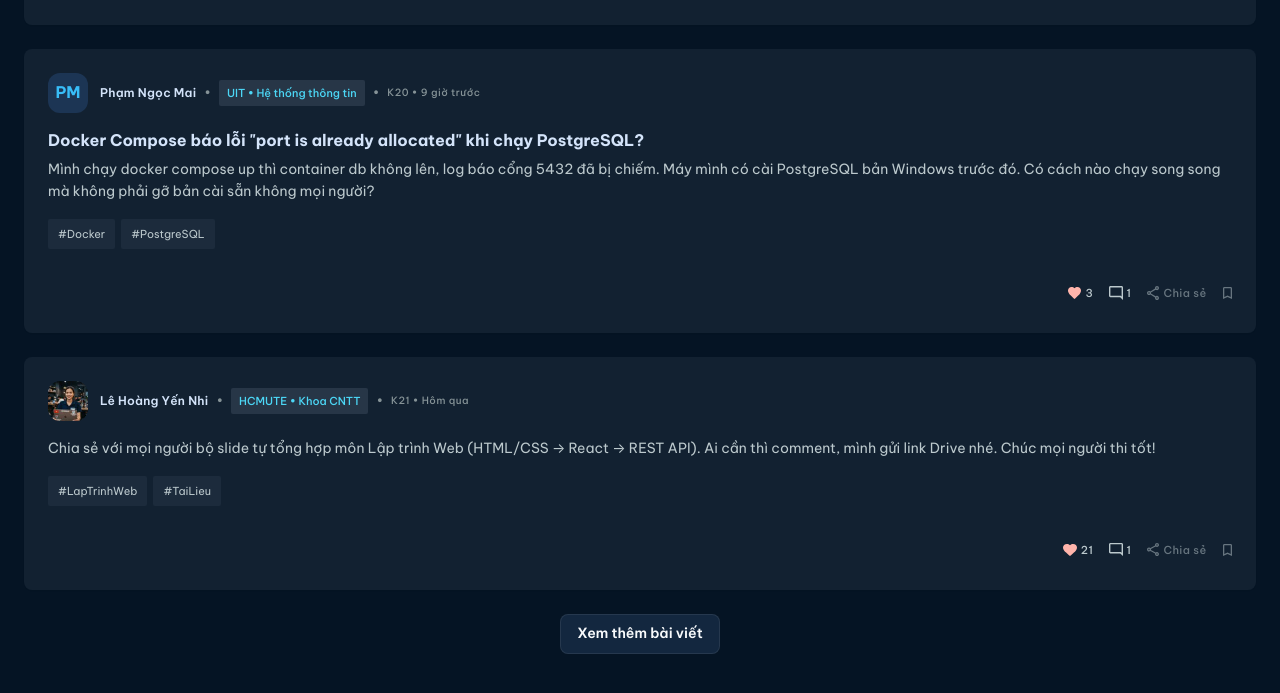
Test: FeedPage › bấm nút bình luận mở phần bình luận ngay trong thẻ bài
(page scrolled)
Click the button named "Bình luận (1)": click(1120, 293) [1109,277,1132,309]
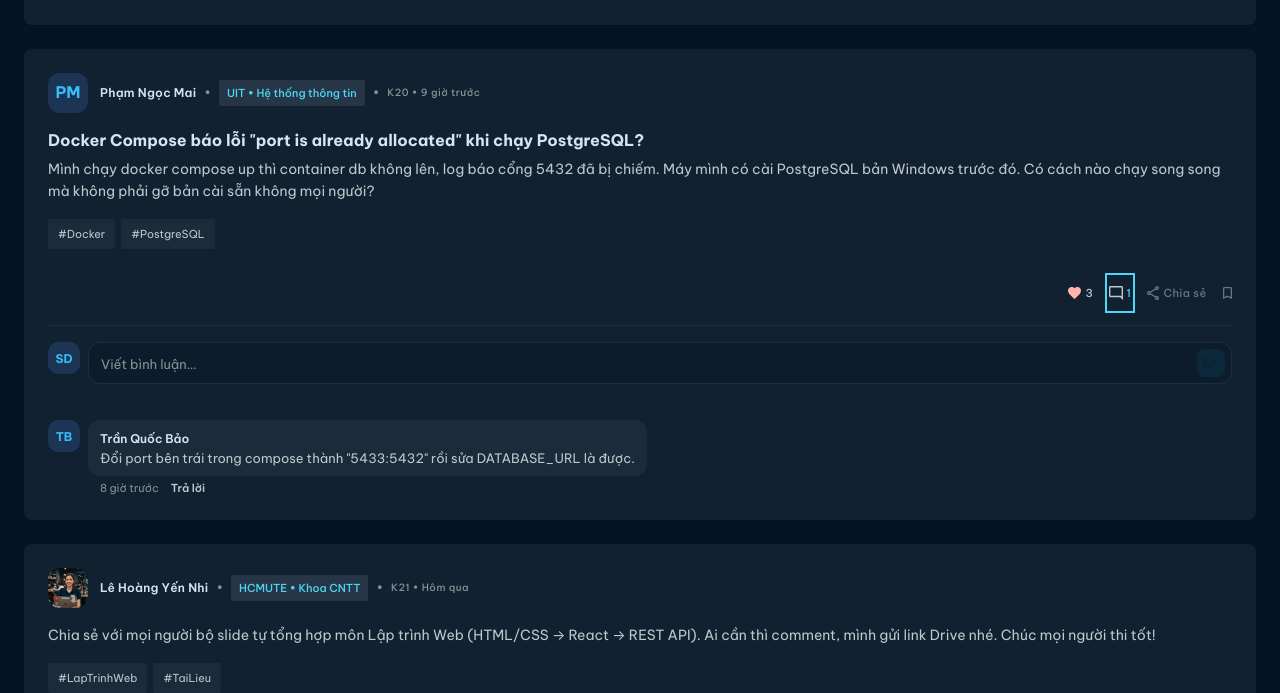
Expected: the button named "Bình luận (1)" is expanded, [1109,277,1132,309]
Expected: the text "Đổi port bên trái" is shown, [100,450,635,466]
